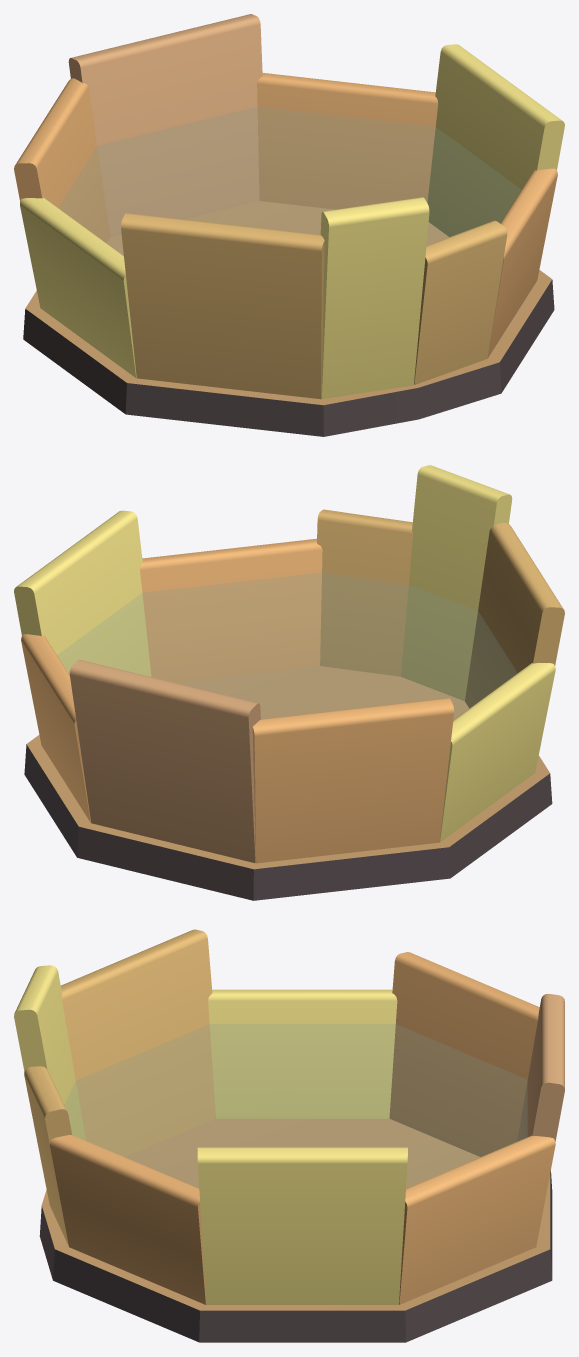
File: 33_bontamgo_1.fbx
3 renders of one model, top to bottom at view 1: azimuth 30°, elevation 25°; view 2: azimuth 150°, elevation 25°; view 3: azimuth 270°, elevation 25°, orthographic.
Parts seen in each view (by area): view 1: 33_bontamgo_1, 33_water_plane_1; view 2: 33_bontamgo_1, 33_water_plane_1; view 3: 33_bontamgo_1, 33_water_plane_1.
Part boxes in pixels (left/top/right/bottom): 33_bontamgo_1: left=14, top=14, right=564, bottom=436; 33_water_plane_1: left=58, top=107, right=520, bottom=255; 33_bontamgo_1: left=14, top=465, right=564, bottom=900; 33_water_plane_1: left=58, top=573, right=516, bottom=718; 33_bontamgo_1: left=14, top=929, right=564, bottom=1342; 33_water_plane_1: left=65, top=1024, right=526, bottom=1187.
Bounding box in the file's own units: 649 × 313 × 686.
